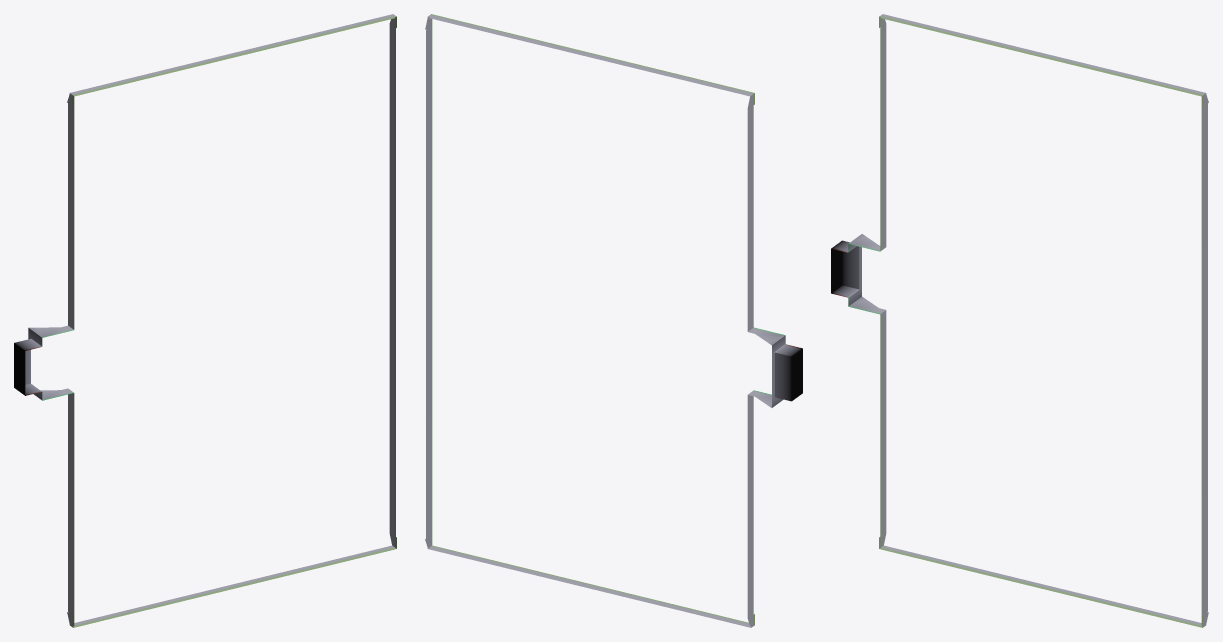
Rendered from SM_000224_wall01.fbx.
3 renders of one model, left to right at view 1: azimuth 30°, elevation 25°; view 2: azimuth 150°, elevation 25°; view 3: azimuth 330°, elevation 25°, orthographic.
Parts seen in each view (by area): view 1: SM_000224.001; view 2: SM_000224.001; view 3: SM_000224.001.
Part boxes in pixels (x1,y1,x2,y2): SM_000224.001: (14,14,396,627); SM_000224.001: (425,14,802,627); SM_000224.001: (831,14,1208,627).
Size of the model in its own units: 45.09 by 61.72 by 2.93.
